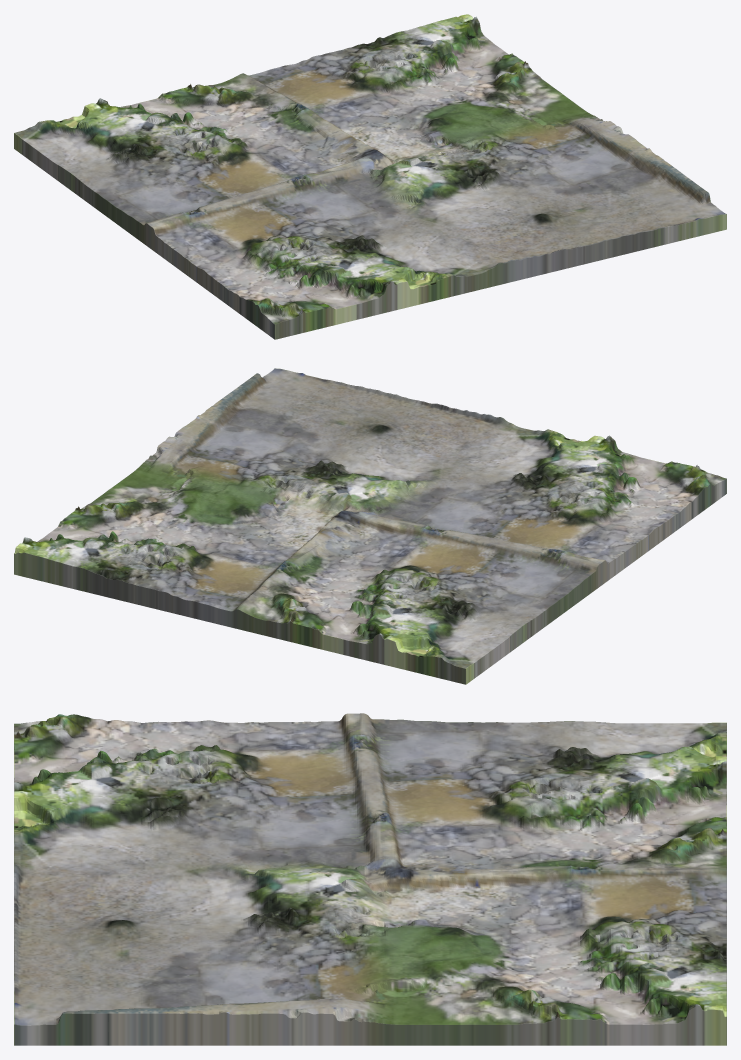
Rendered from verti_arena_edge25.dae.
The picture shows the model from 3 angles, top to bottom: view 1: azimuth 30°, elevation 25°; view 2: azimuth 150°, elevation 25°; view 3: azimuth 270°, elevation 25°; orthographic projection. The views are drawn at different scales.
Visible parts, largest first — view 1: terrain; view 2: terrain; view 3: terrain.
Part boxes in pixels (box(x1,y1,x2,y2)): terrain: box(14, 14, 726, 339); terrain: box(14, 368, 726, 684); terrain: box(14, 713, 726, 1045).
Bounding box in the file's own units: 8 × 8 × 0.5.
Materials: 1 (1 with a texture image).
